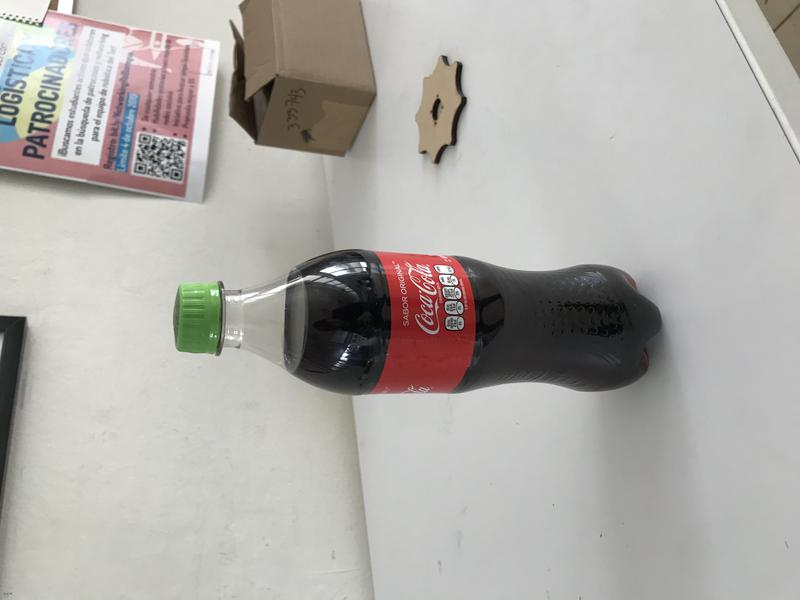coca_cola: (172, 249, 663, 397)
